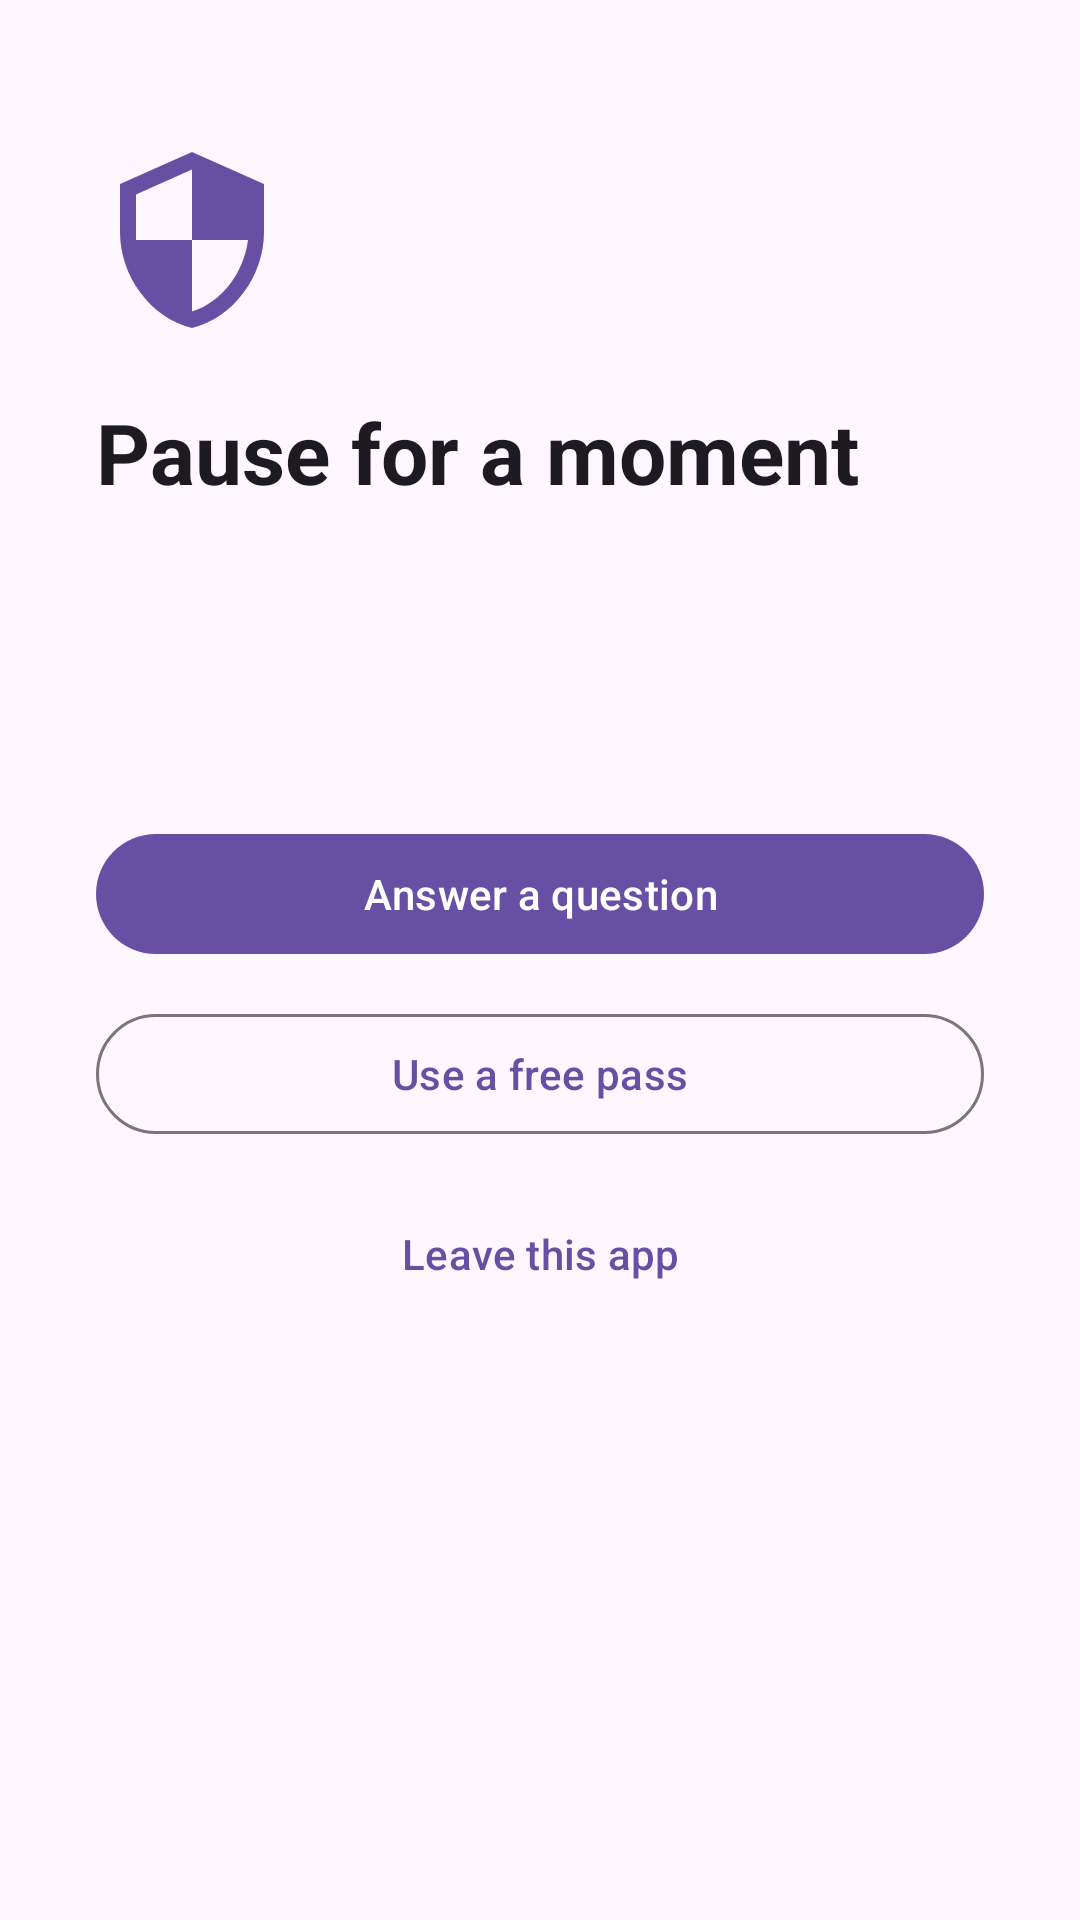

Icon bounding boxes for this 1080 × 1920 phone screenshot, format (x1, y1, x2, y2):
focus shield: (120, 152, 264, 328)
